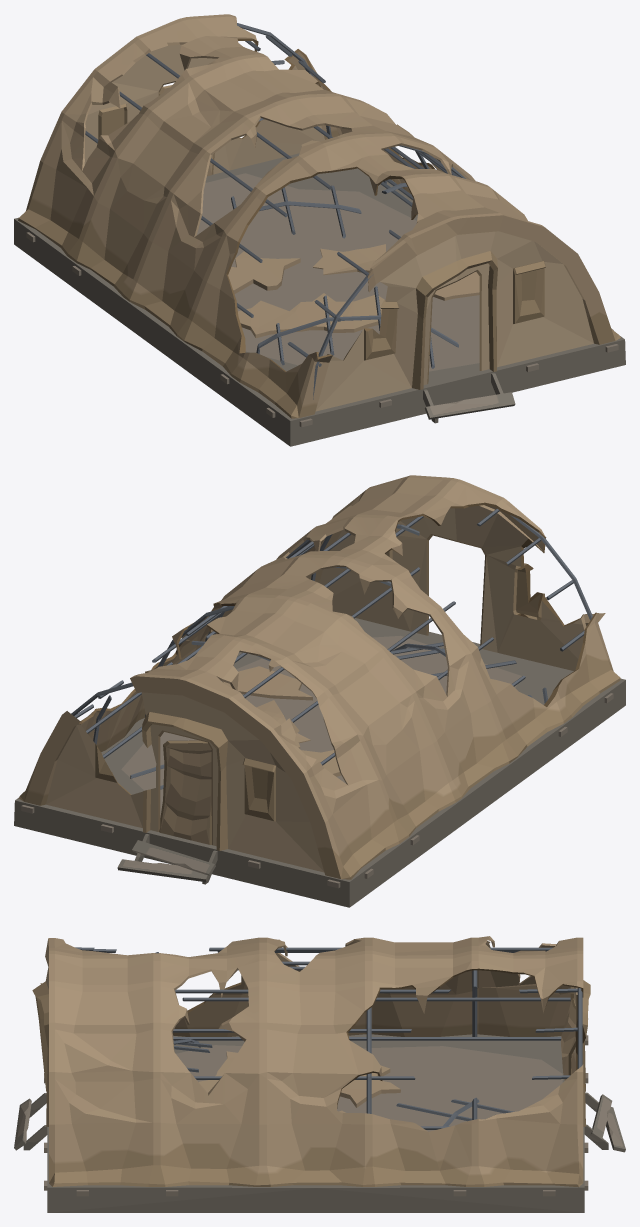
The model's file is SM_Bld_Tent_Destroyed_01.glb.
The picture shows the model from 3 angles, top to bottom: view 1: azimuth 30°, elevation 25°; view 2: azimuth 150°, elevation 25°; view 3: azimuth 270°, elevation 25°; orthographic projection. The views are drawn at different scales.
Visible parts, largest first — view 1: SM_Bld_Tent_Destroyed_01; view 2: SM_Bld_Tent_Destroyed_01; view 3: SM_Bld_Tent_Destroyed_01.
Part boxes in pixels (bbox=[...]): SM_Bld_Tent_Destroyed_01: bbox=[14, 14, 625, 446]; SM_Bld_Tent_Destroyed_01: bbox=[14, 475, 625, 907]; SM_Bld_Tent_Destroyed_01: bbox=[14, 936, 625, 1212].
Bounding box in the file's own units: 7.8 × 4.07 × 12.48.
Materials: 1 (1 with a texture image).
